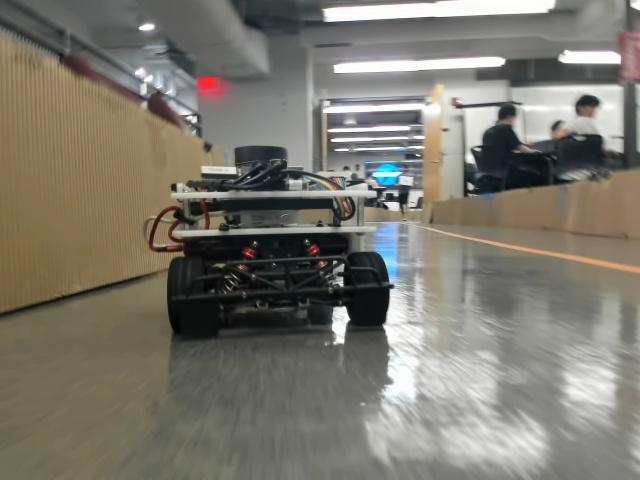Car: (152, 146, 394, 337)
